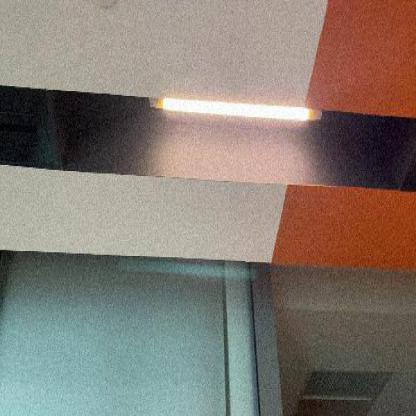light_on: (141, 87, 328, 135)
